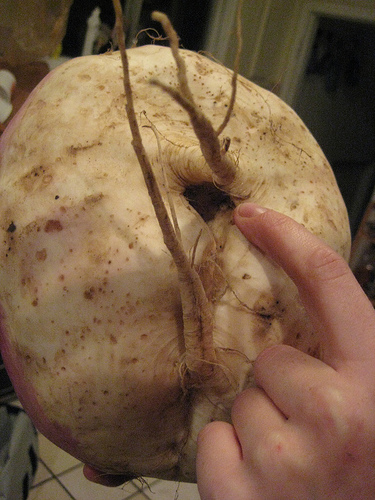turnip: (0, 43, 351, 487)
